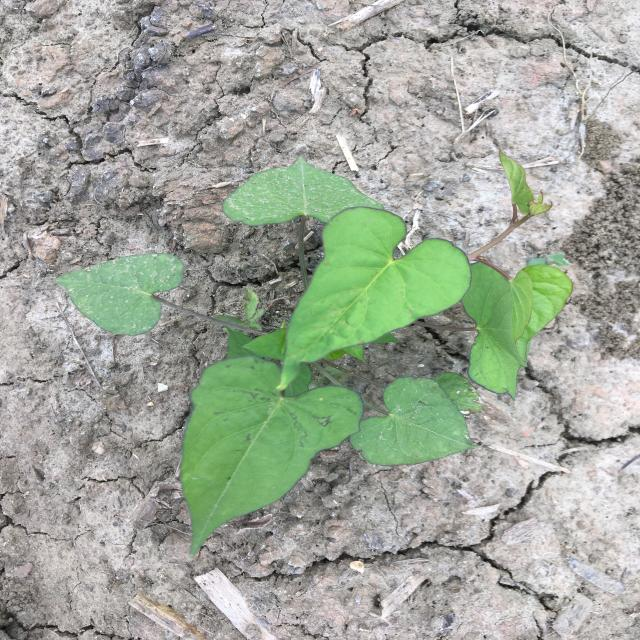MorningGlory: (52, 148, 574, 559)
